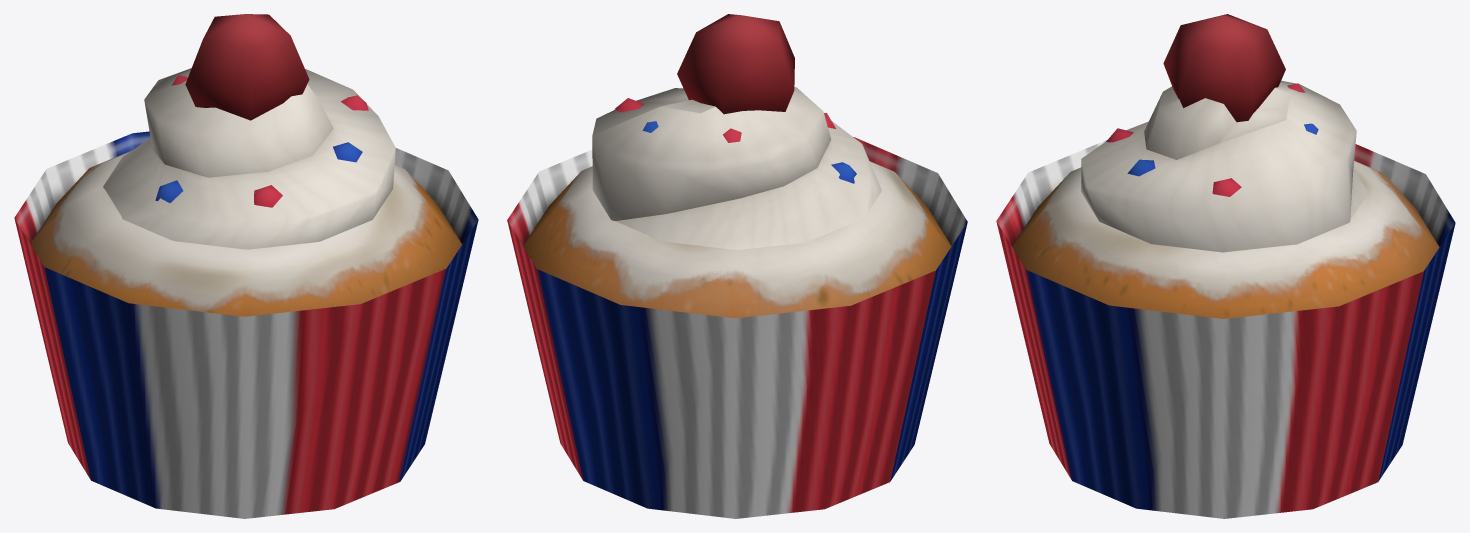
Rendered from A2_S1M1_0001_FlagCupcakes_France.fbx.
The picture shows the model from 3 angles, left to right: view 1: azimuth 30°, elevation 25°; view 2: azimuth 150°, elevation 25°; view 3: azimuth 270°, elevation 25°; orthographic projection.
Visible parts, largest first — view 1: A2_S1M1_0001_FlagCupcakes_France; view 2: A2_S1M1_0001_FlagCupcakes_France; view 3: A2_S1M1_0001_FlagCupcakes_France.
Part boxes in pixels (x1,y1,x2,y2): A2_S1M1_0001_FlagCupcakes_France: (14, 14, 478, 518); A2_S1M1_0001_FlagCupcakes_France: (507, 14, 967, 518); A2_S1M1_0001_FlagCupcakes_France: (996, 14, 1455, 518).
Bounding box in the file's own units: 10 × 10.26 × 10.
Materials: 1 (1 with a texture image).
